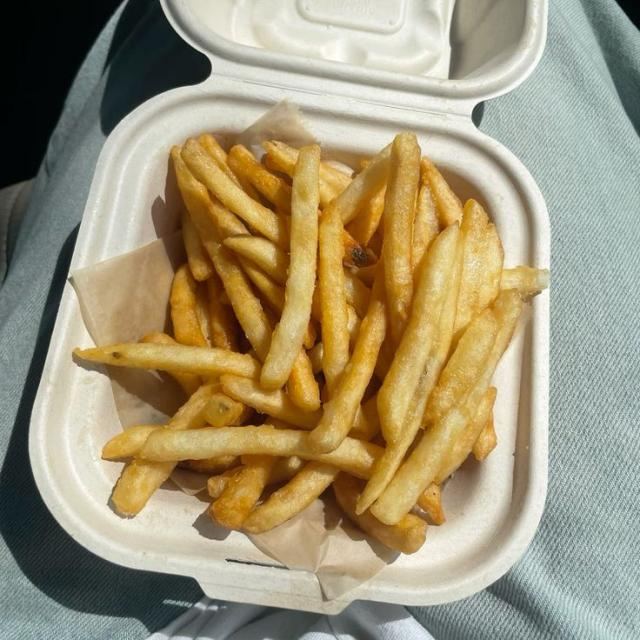potato fries: (75, 134, 548, 553), (260, 147, 319, 388), (382, 134, 419, 344), (74, 343, 260, 377)
